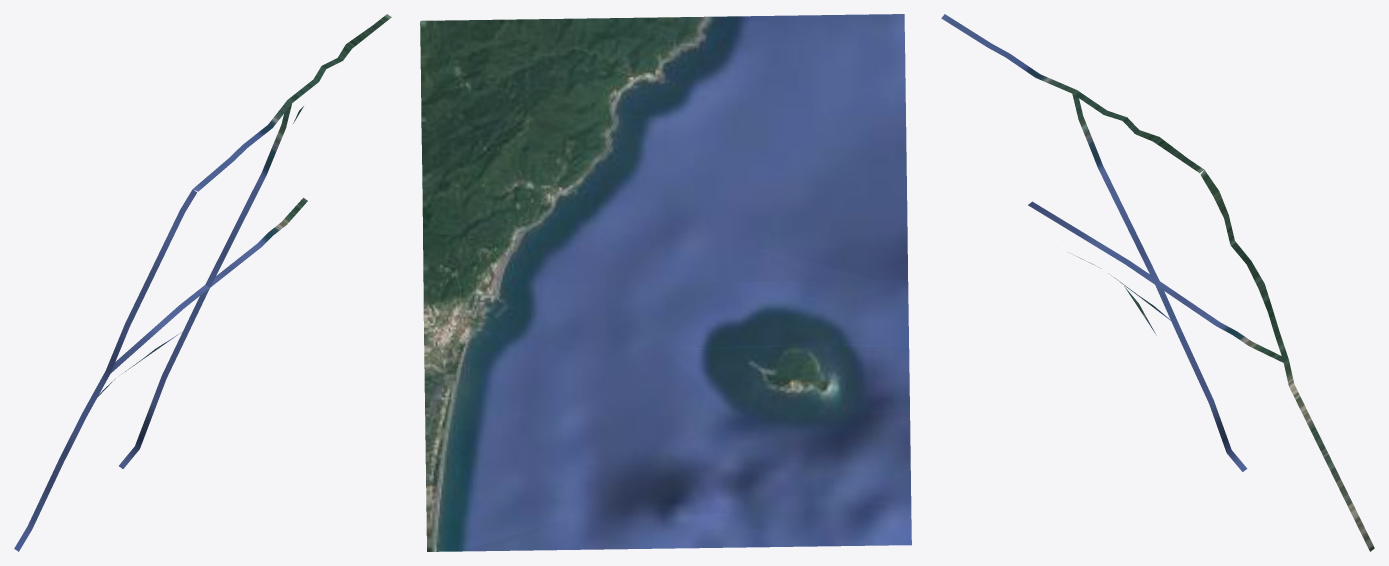
3 views of the same model, side by side, from view 1: azimuth 30°, elevation 25°; view 2: azimuth 150°, elevation 25°; view 3: azimuth 270°, elevation 25° (orthographic). The views are drawn at different scales.
Bounding box in the file's own units: 19289 × 18287 × 16768.
1 material, 1 textured.
